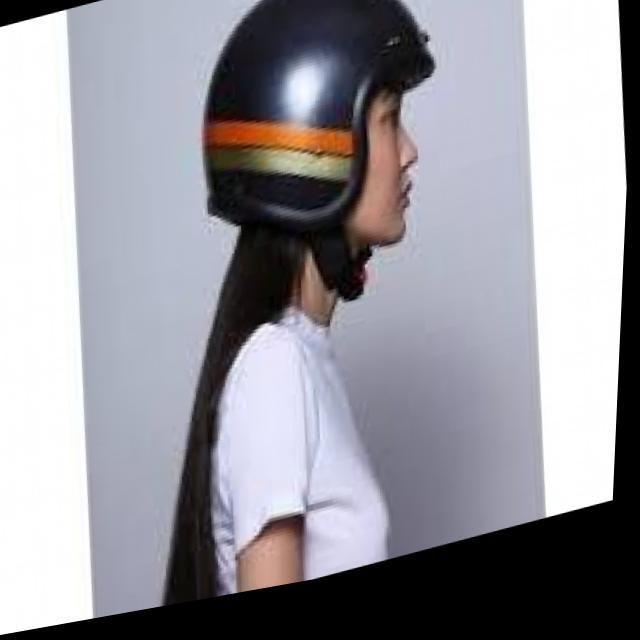Helmet: (186, 0, 442, 250)
